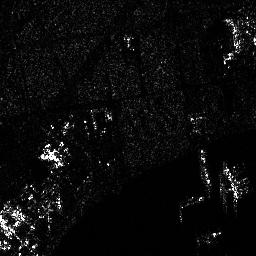ship: (200, 148, 211, 191)
